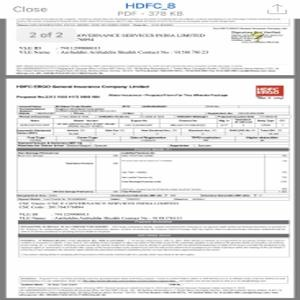image: (255, 83, 286, 97)
table: (15, 147, 290, 201), (15, 104, 291, 147)
text: (18, 201, 184, 221)
